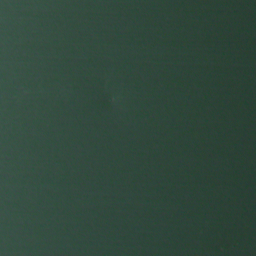con: (102, 83, 131, 112)
